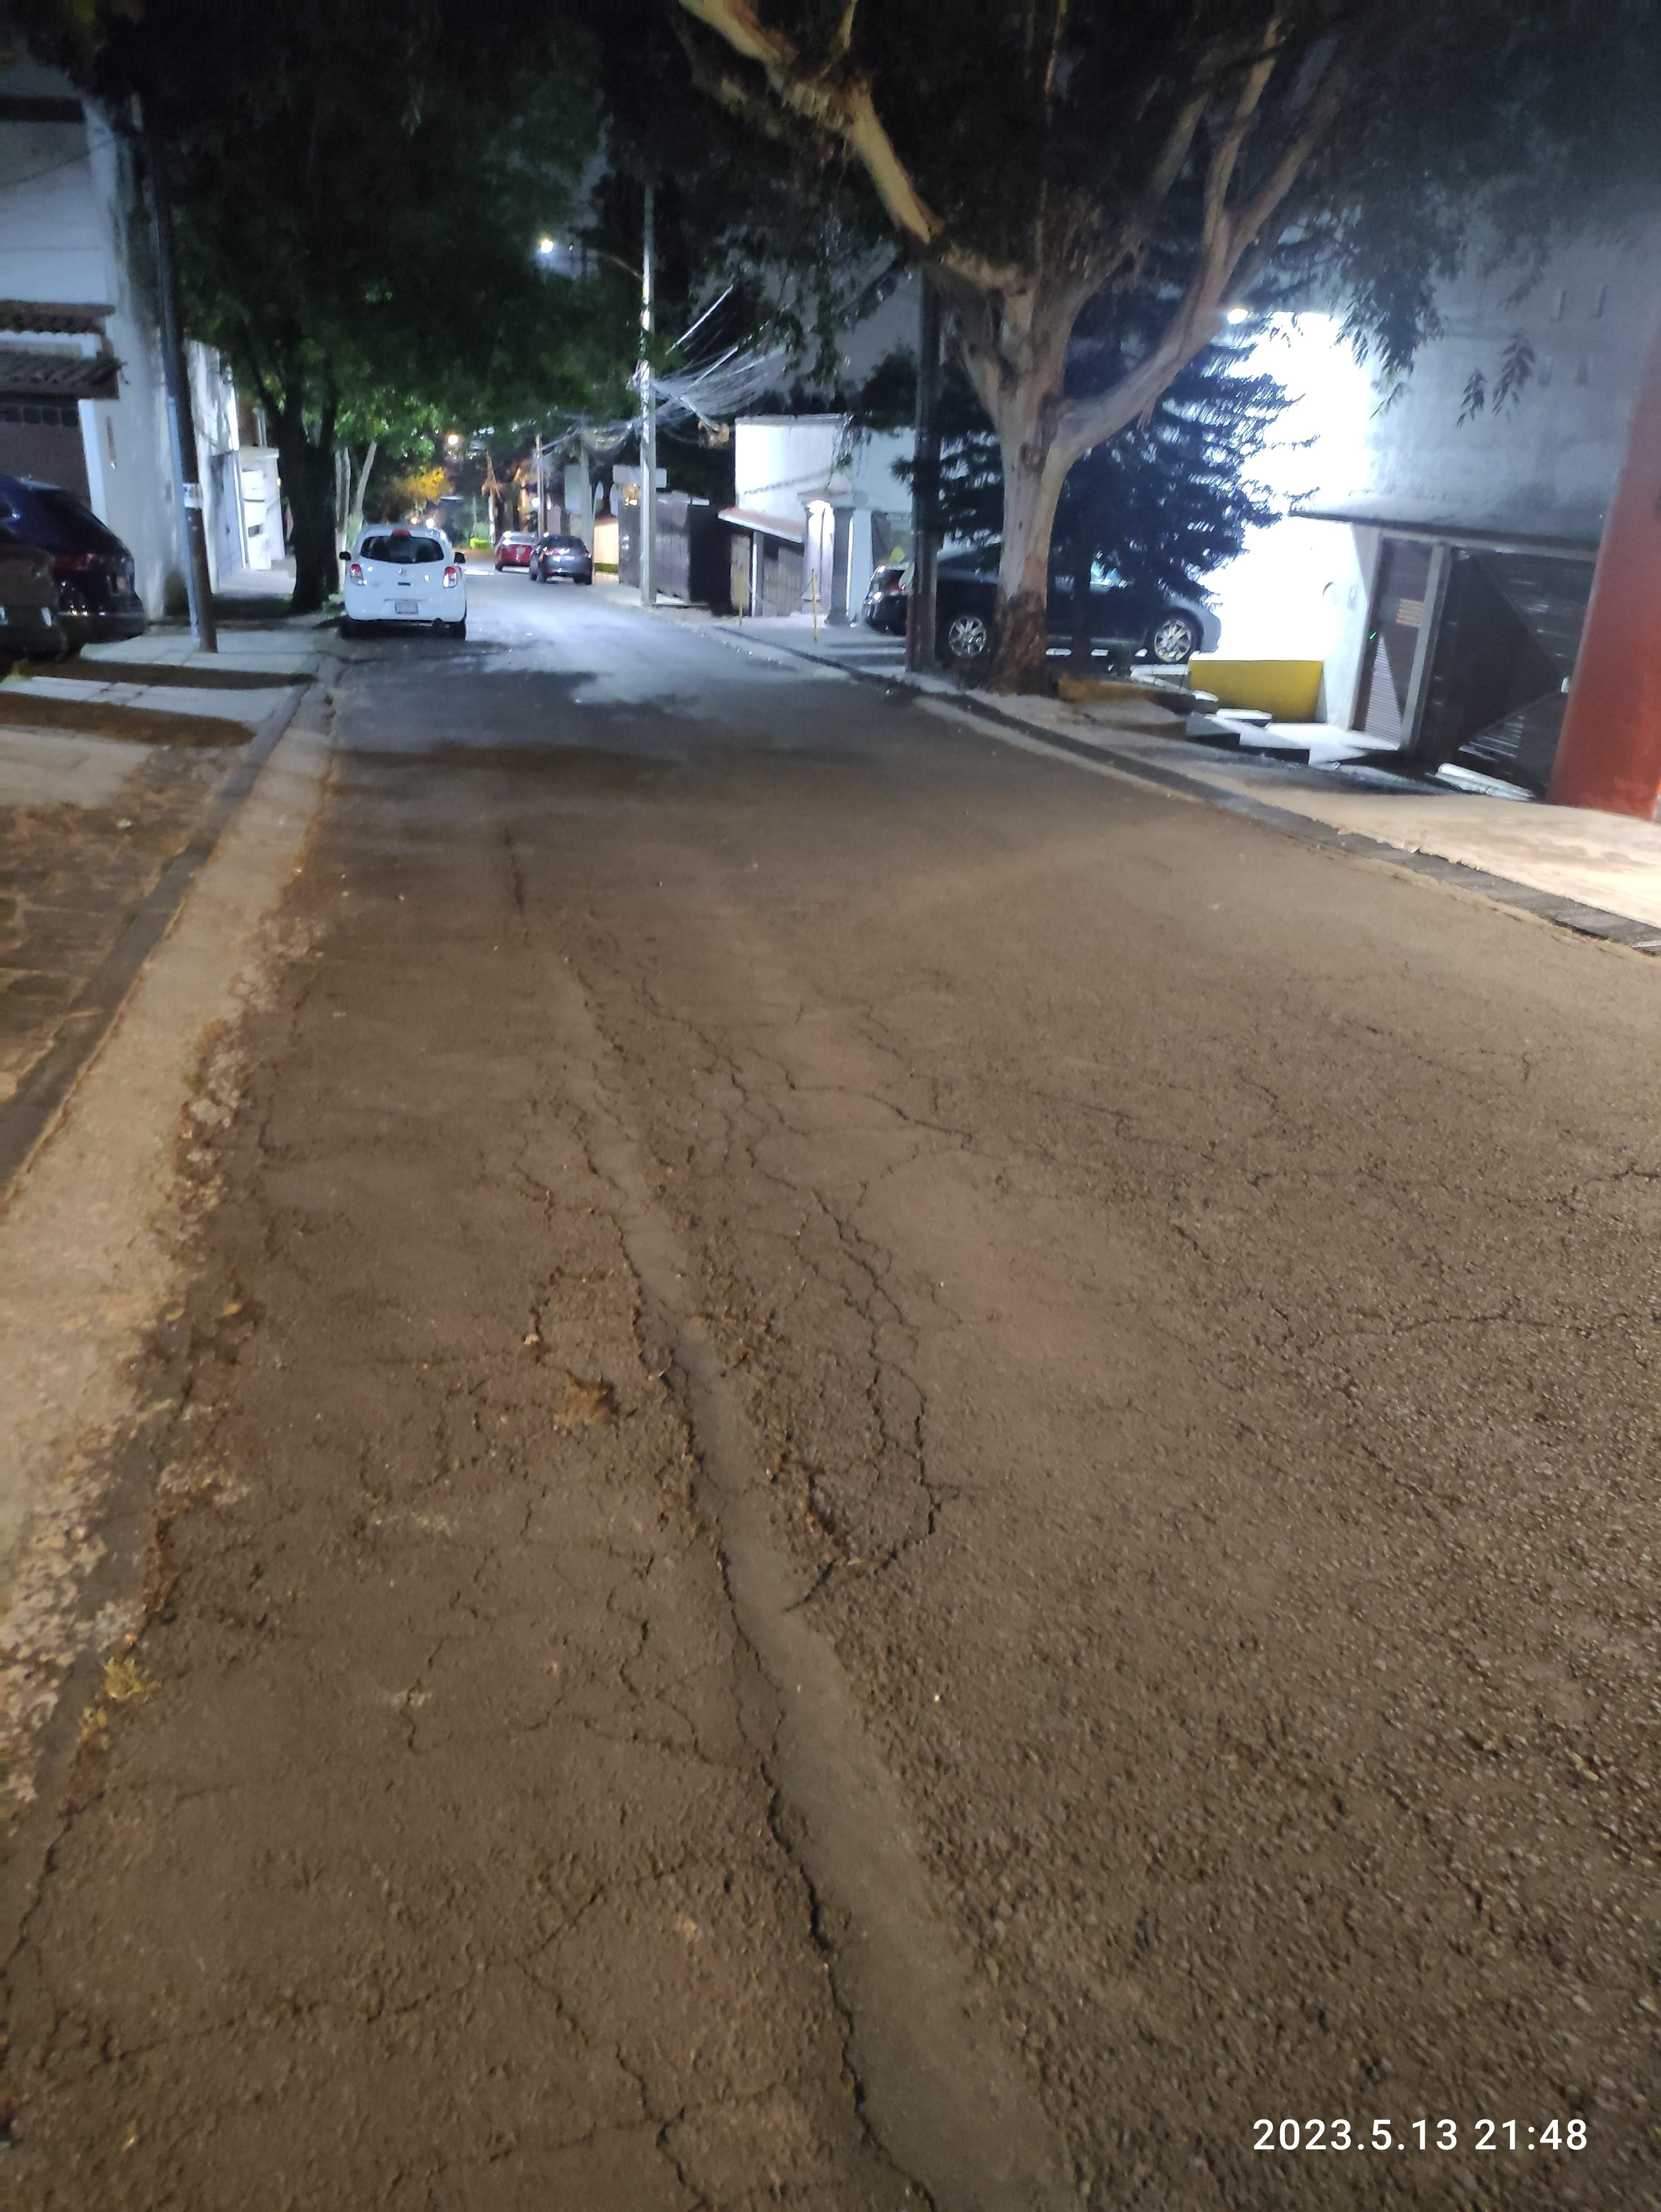alligator-crack: (623, 1040, 1010, 1549)
crack: (0, 881, 377, 2099), (206, 1455, 701, 2188), (598, 1254, 930, 2212), (1172, 1005, 1638, 1396)
